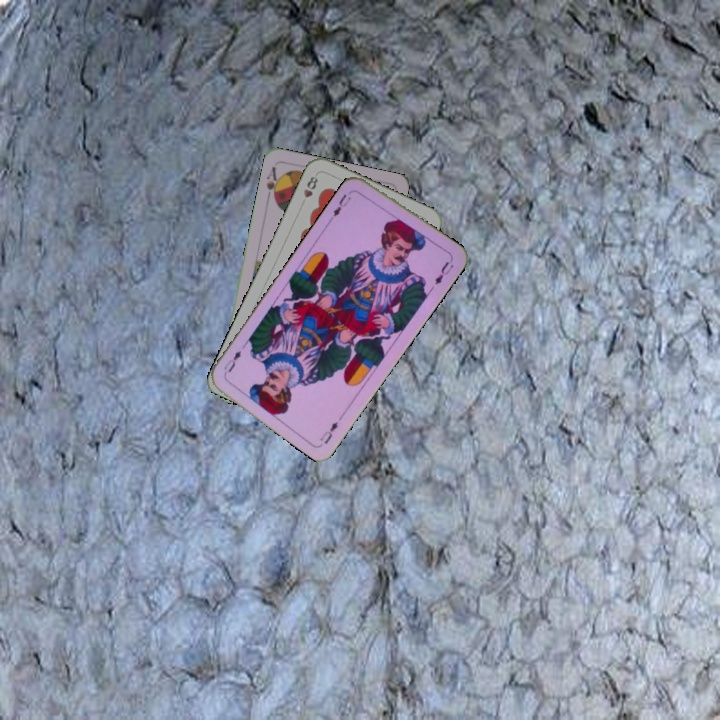EU: (328, 186, 356, 222), (316, 417, 341, 447)
H8: (299, 172, 320, 200)
SA: (262, 163, 284, 203)
